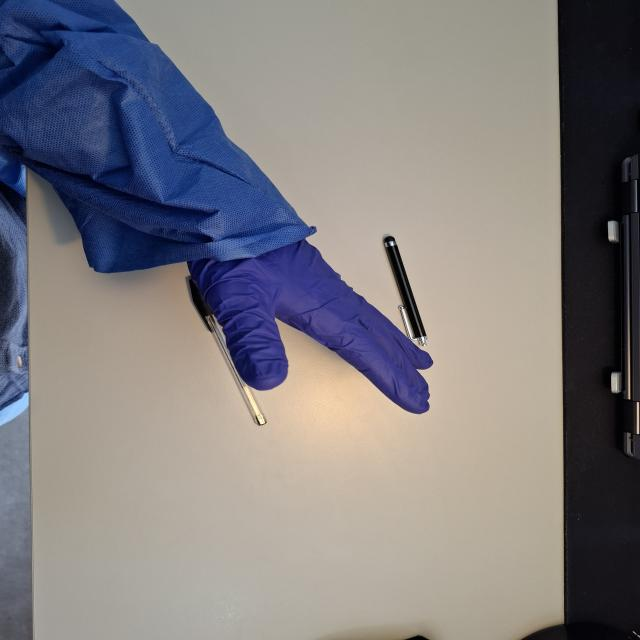glove_on: (182, 222, 437, 416)
